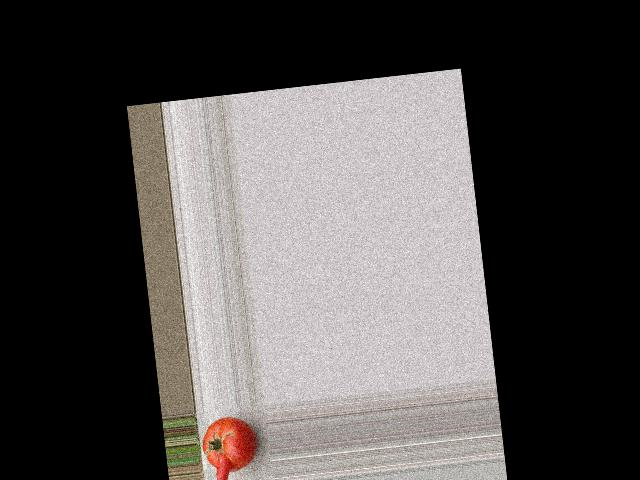tomato: (199, 413, 258, 474)
